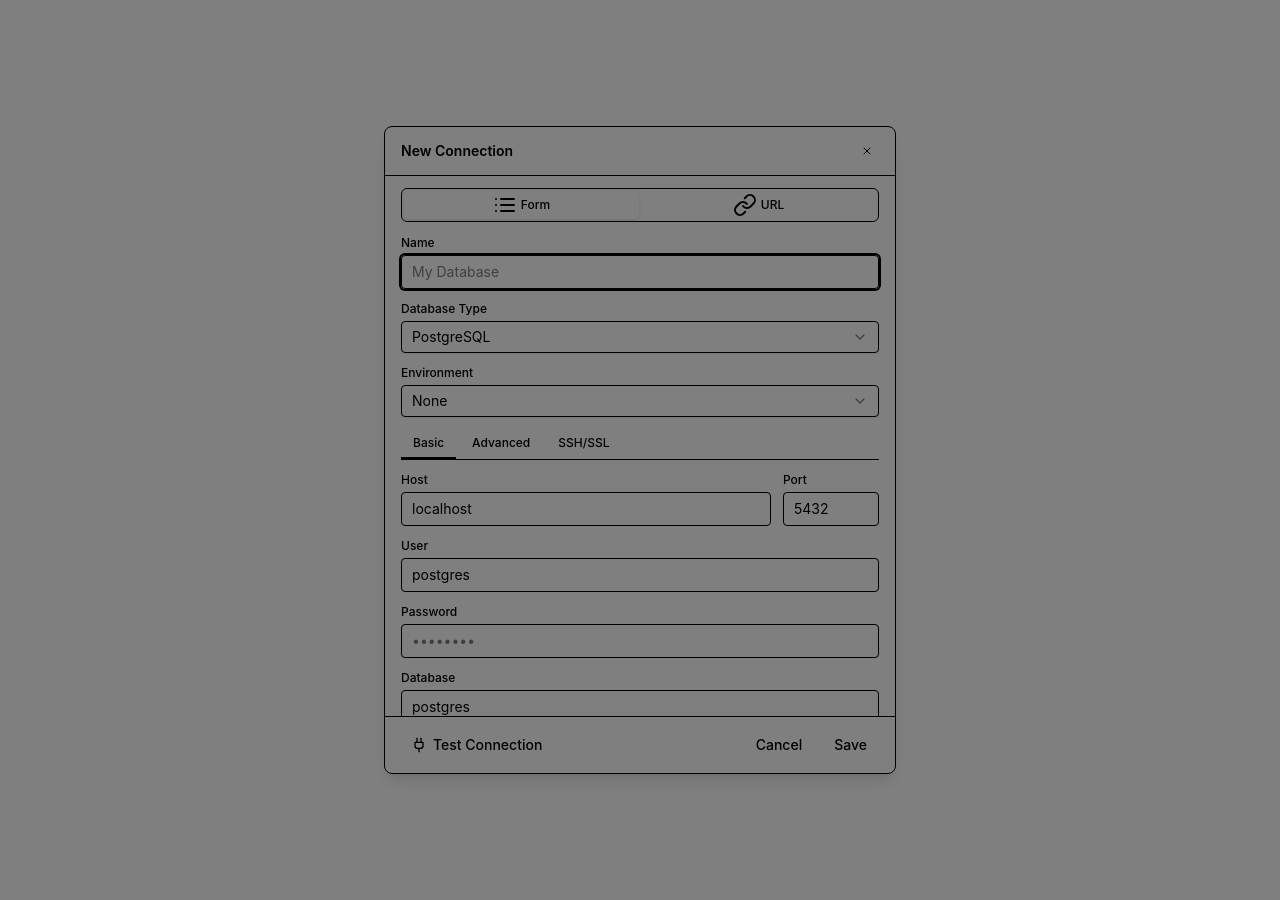
Scenario: ConnectionDialog form segments (#2436) › [conn-segment] Test Connection from the Advanced segment returns to Basic and focuses the rejected Database
The width and height of the screenshot is (1280, 900).
In the field labelled "Name": (640, 272) [401, 255, 879, 289], type "Segmented"
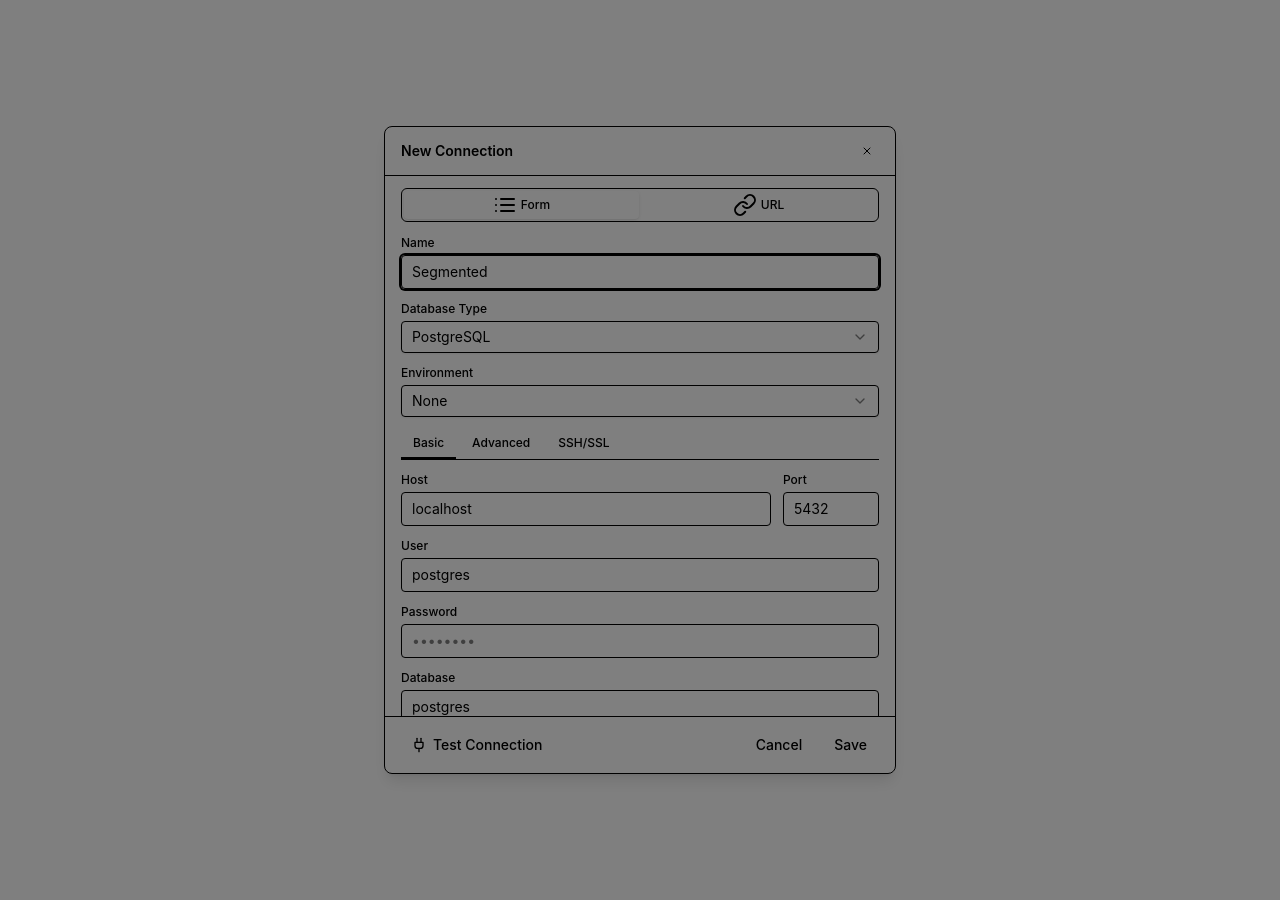
Clear the field labelled "Database": (640, 707) [401, 690, 879, 724]
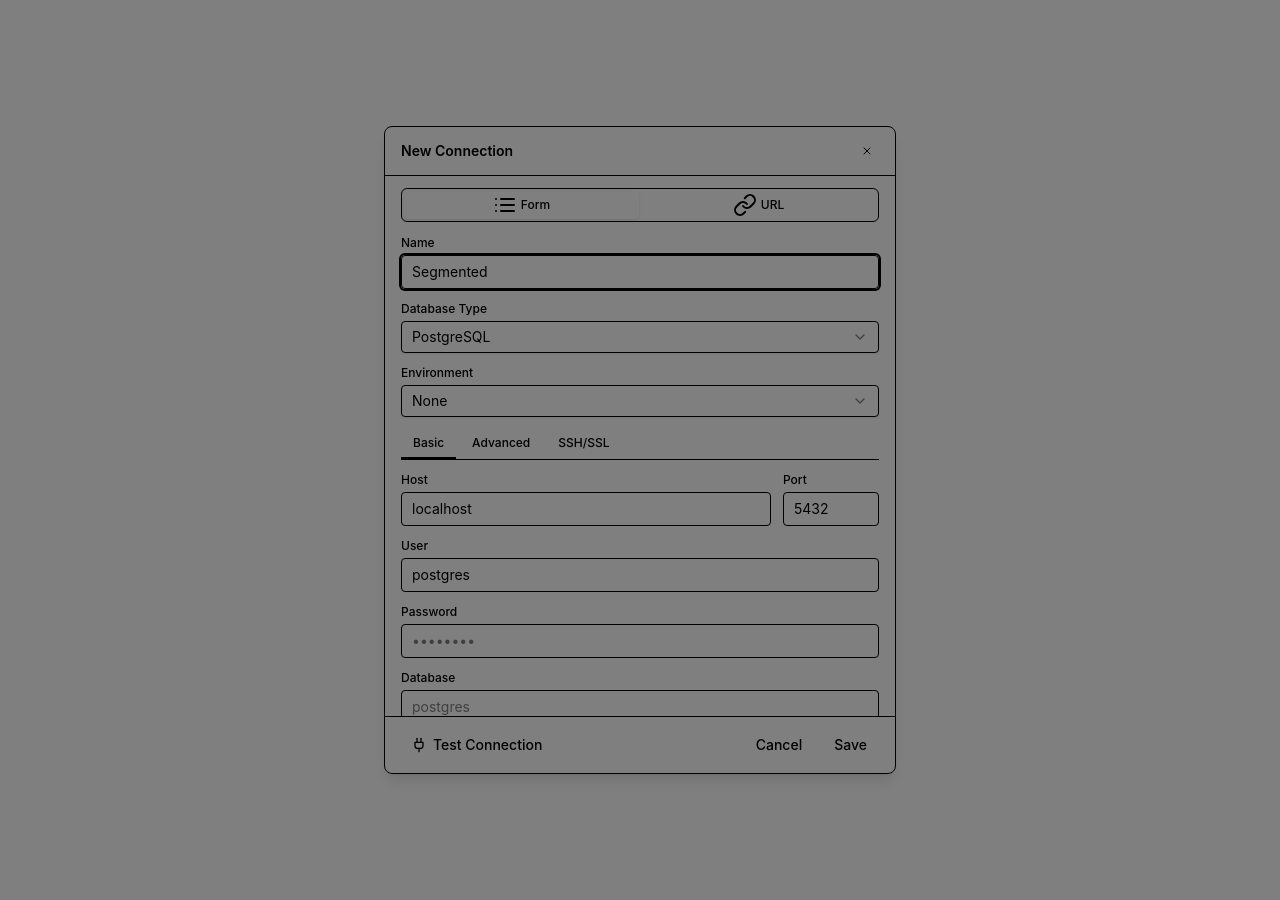
Press the mouse on the tab "Advanced": (501, 444) [460, 429, 542, 459]
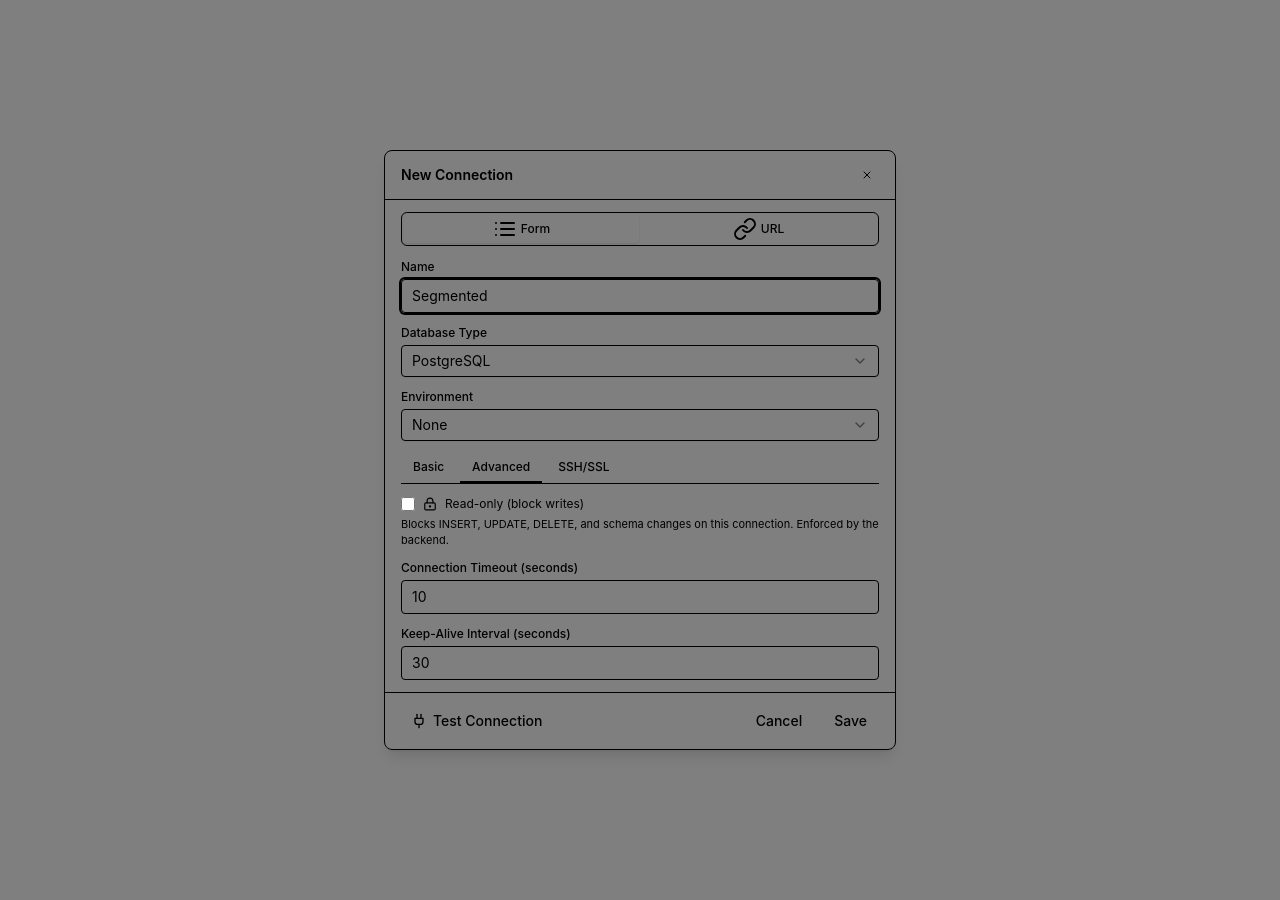
Click the button "Test Connection": (477, 721) [401, 705, 552, 737]
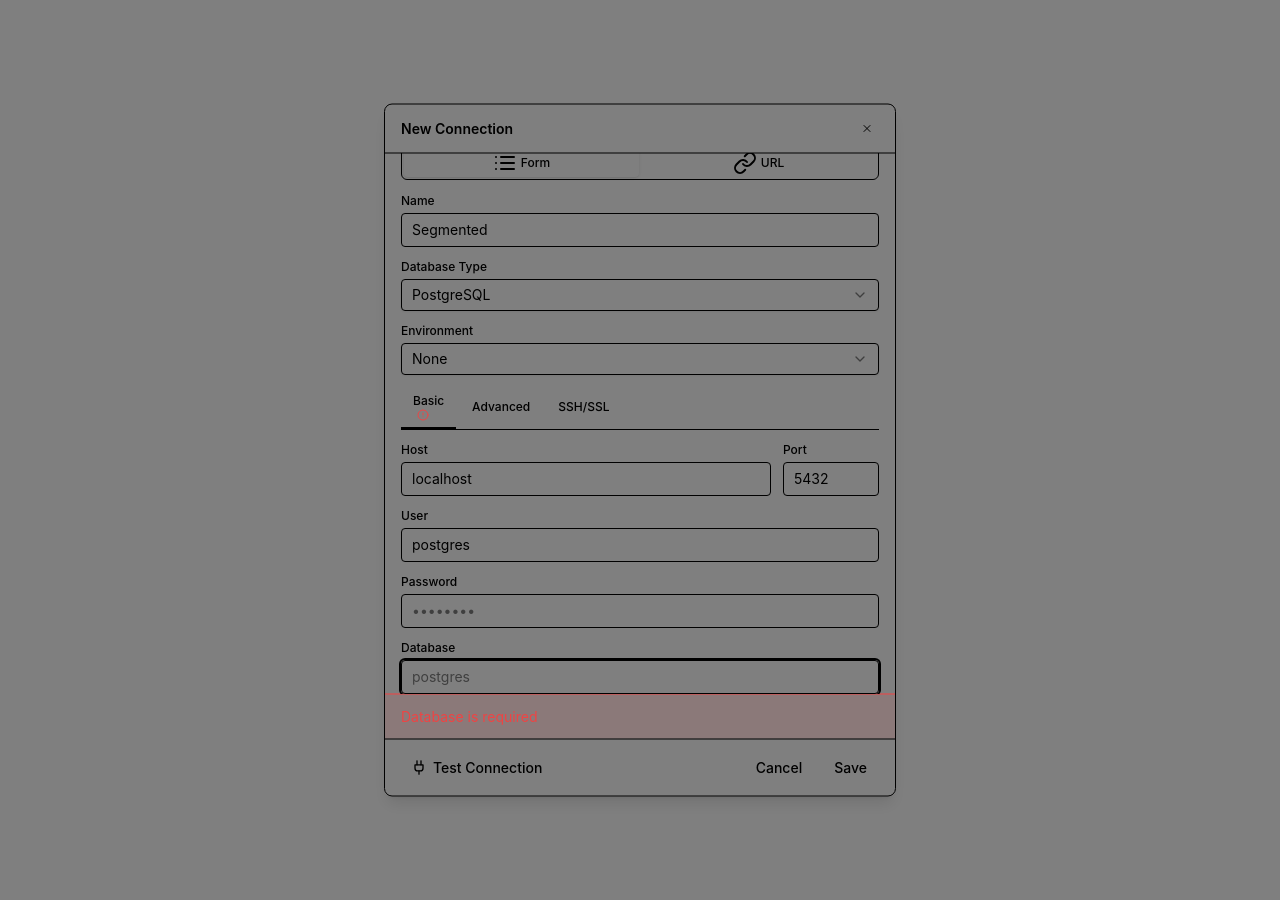
Expected: the message reads "Database is required", [401, 708, 538, 724]
